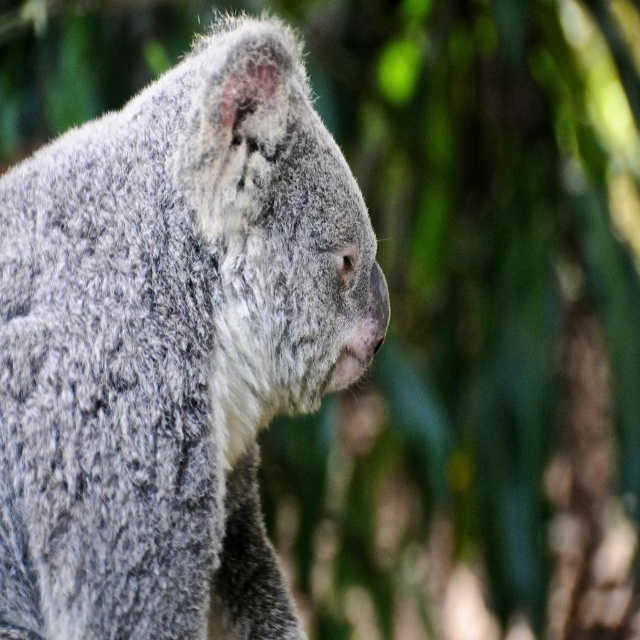Koala: (0, 7, 392, 639)
